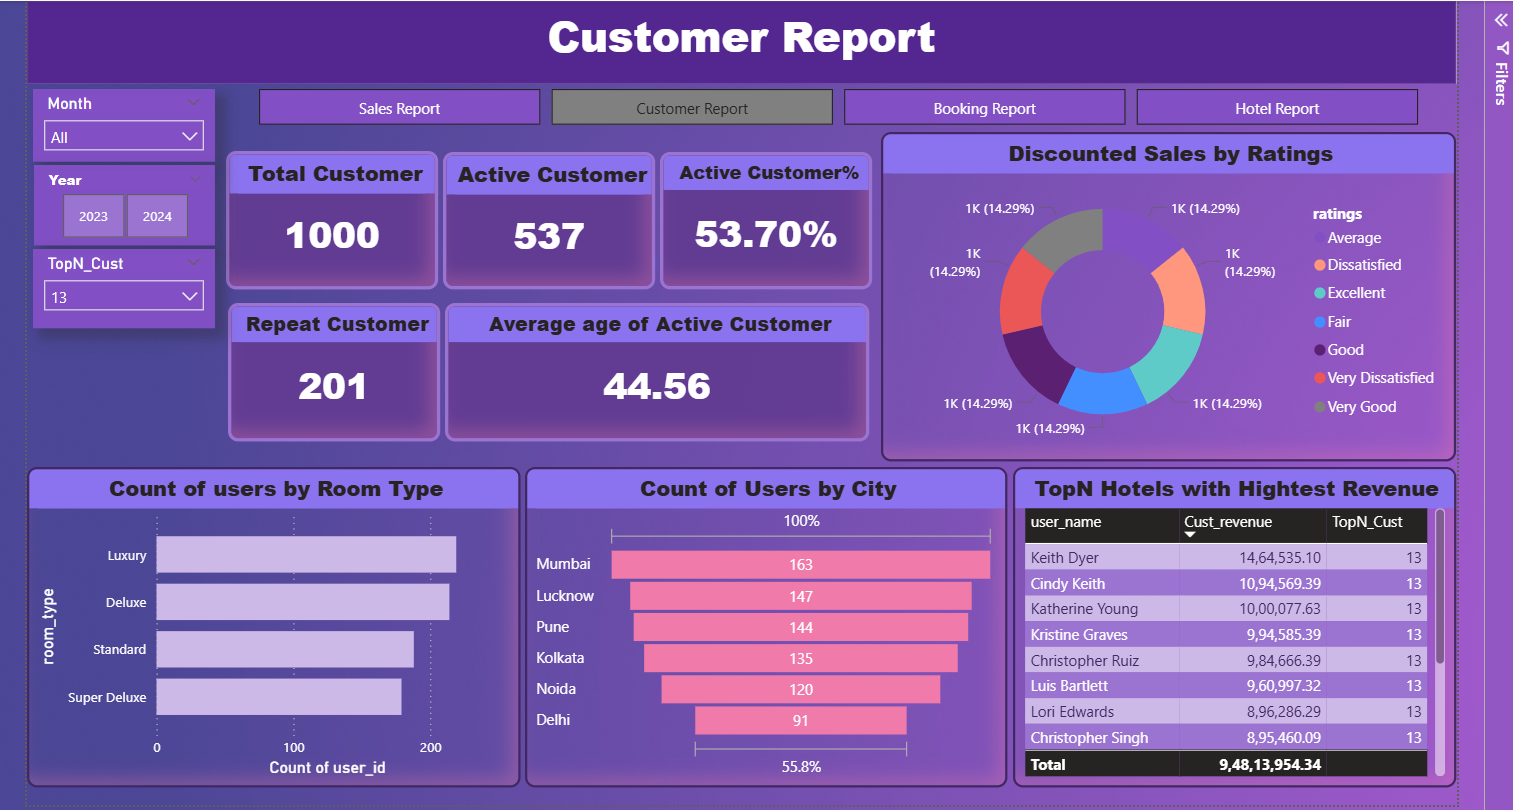

This screenshot's page, from the dashboard's own definition file:
{"tool":"powerbi","page":{"name":"Customer Report","canvas":[1280,720],"ordinal":1},"visuals":[{"type":"shape","box":[0,0,1279.7,74.3],"z":0},{"type":"card","title":"Total Customer","fields":{"Values":["All Measures.Total_Cust"]},"box":[178.2,134.3,189.9,123.6],"z":1000},{"type":"card","title":"Active Customer","fields":{"Values":["All Measures.Active_Cust"]},"box":[372.5,135.2,189.9,122.7],"z":2000},{"type":"card","title":"Active Customer%","fields":{"Values":["All Measures.Active_Cust%"]},"box":[566.9,135.2,189.9,122.7],"z":3000},{"type":"slicer","title":"Month","fields":{"Values":["Date.Date.Variation.Date Hierarchy.Month"]},"box":[5.4,78.8,163,65.4],"z":4000},{"type":"card","title":"Repeat Customer","fields":{"Values":["All Measures.Repeat_Cust"]},"box":[180,270.3,189.9,123.6],"z":5000},{"type":"card","title":"Average age of Active Customer","fields":{"Values":["All Measures.Avg_AC"]},"box":[374.3,270.3,379.7,123.6],"z":6000},{"type":"textbox","box":[0,0,1279.7,74.3],"z":11000},{"type":"donutChart","title":"Discounted Sales by Ratings","fields":{"Category":["ratings.ratings"],"Y":["CountNonNull(users.user_id)"]},"box":[764.8,117.3,514.9,294.6],"z":12000},{"type":"pageNavigator","box":[207.8,78.8,1038.8,32.2],"z":13000},{"type":"slicer","title":"Month","fields":{"Values":["Date.Date.Variation.Date Hierarchy.Year"]},"box":[6.3,146.9,162.1,71.6],"z":14000},{"type":"slicer","title":"Month","fields":{"Values":["TopN_Cust.TopN_Cust"]},"box":[5.4,222.1,163,70.7],"z":15000},{"type":"barChart","title":"Count of users by Room Type","fields":{"Category":["bookings.room_type"],"Y":["CountNonNull(bookings.user_id)"]},"box":[0,417.3,442.4,287.5],"z":16000},{"type":"funnel","title":"Count of Users by City","fields":{"Category":["hotels.city"],"Y":["CountNonNull(bookings.user_id)"]},"box":[446,417.3,431.6,287.5],"z":17000},{"type":"tableEx","title":"TopN Hotels with Hightest Revenue","fields":{"Values":["users.user_name","All Measures.Cust_revenue","TopN_Cust.TopN_Cust"]},"box":[883,417.3,396.7,287.5],"z":18000}]}

Visuals, with their boxes on the page's 1280x720 design canvas (x1, y1, x2, y2). These are canvas units, not pixel positions in the 1513x810 screenshot, which may show the page scaled, cropped or inside an application window:
shape: 0 0 1280 74
"Total Customer" card: 178 134 368 258
"Active Customer" card: 372 135 562 258
"Active Customer%" card: 567 135 757 258
"Month" slicer: 5 79 168 144
"Repeat Customer" card: 180 270 370 394
"Average age of Active Customer" card: 374 270 754 394
textbox: 0 0 1280 74
"Discounted Sales by Ratings" donutChart: 765 117 1280 412
pageNavigator: 208 79 1247 111
"Month" slicer: 6 147 168 218
"Month" slicer: 5 222 168 293
"Count of users by Room Type" barChart: 0 417 442 705
"Count of Users by City" funnel: 446 417 878 705
"TopN Hotels with Hightest Revenue" tableEx: 883 417 1280 705
